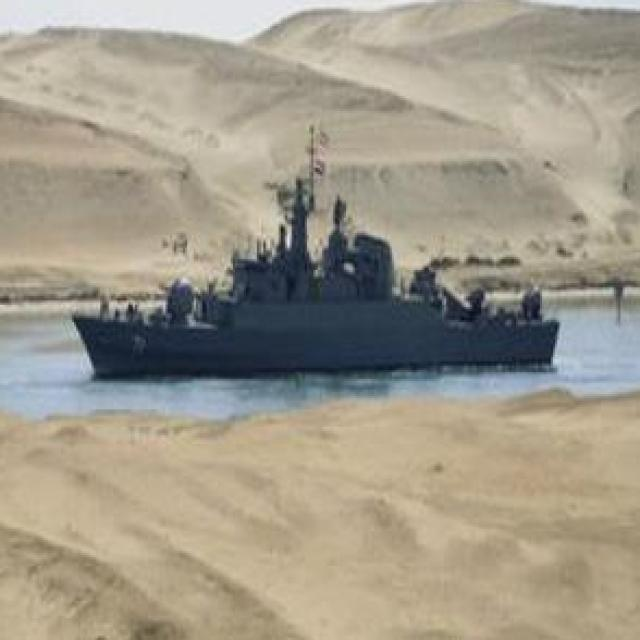navalvessels: (62, 180, 563, 382)
